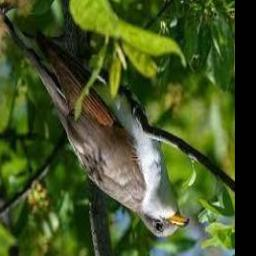Cuckoo: (25, 31, 189, 239)
